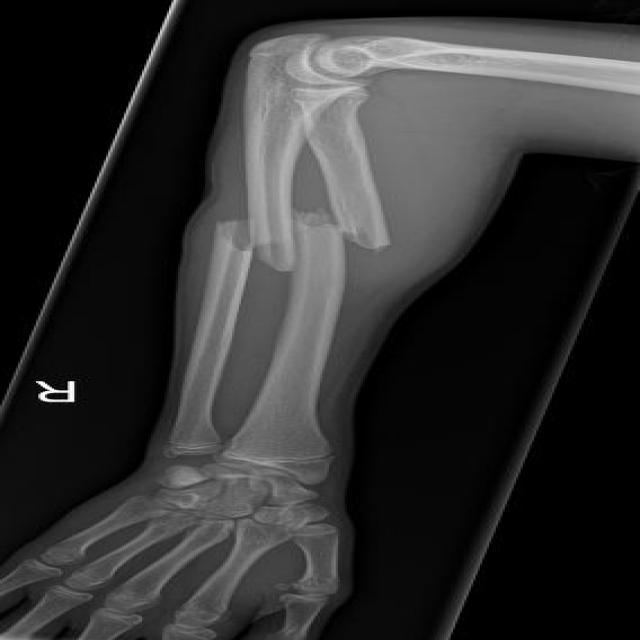bone: (204, 202, 396, 286)
